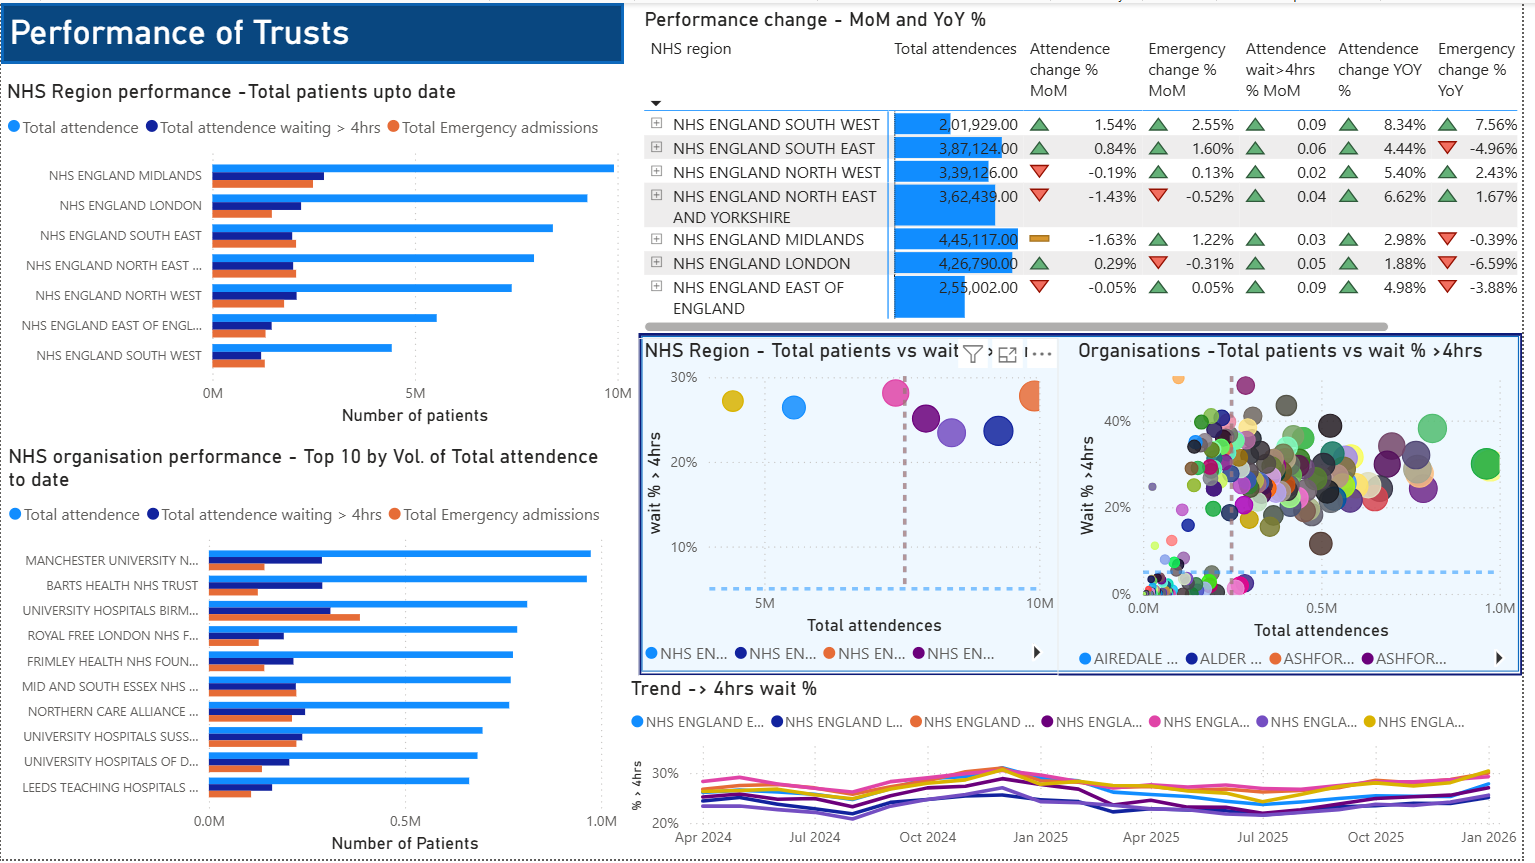

This screenshot's page, from the dashboard's own definition file:
{"tool":"powerbi","page":{"name":"Trust Performance","canvas":[1280,720],"ordinal":1},"visuals":[{"type":"clusteredBarChart","title":"NHS Region performance -Total patients upto date ","fields":{"Category":["dim_organisation.parent_org"],"Y":["dim_date.Total_attendences","dim_date.Total attendence waiting > 4hrs","dim_date.Total Emergency admissions"]},"box":[0,64.3,535.7,295.7],"z":0},{"type":"textbox","box":[0,0,524.3,51.4],"z":1000},{"type":"clusteredBarChart","title":"NHS organisation performance - Top 10 by Vol. of Total attendence to date","fields":{"Category":["dim_organisation.org_name"],"Y":["dim_date.Total_attendences","dim_date.Total attendence waiting > 4hrs","dim_date.Total Emergency admissions"]},"box":[1.4,371.4,522.9,348.6],"z":2000},{"type":"pivotTable","title":"Performance change - MoM and YoY %","fields":{"Values":["dim_date.Total_attendences","dim_date.Attendence change % MoM","dim_date.Emergency change % MoM","dim_date.Attendence wait>4hrs % MoM","dim_date.Attendence change YOY %","dim_date.Emergency change % YoY","dim_date.attendence wait >4hrs % YoY"],"Rows":["dim_organisation.parent_org","dim_organisation.org_name"]},"box":[535.7,2.9,744.3,278.6],"z":3000},{"type":"shape","box":[535.7,277.1,744.3,288.6],"z":3500},{"type":"scatterChart","title":"NHS Region - Total patients vs wait % > 4hrs","fields":{"X":["dim_date.Total_attendences"],"Y":["dim_date.Over 4hr wait %"],"Size":["dim_date.Total_attendences"],"Series":["dim_organisation.parent_org"]},"box":[535.7,281.4,354.3,284.3],"z":4000},{"type":"scatterChart","title":"Organisations -Total patients vs wait % >4hrs ","fields":{"X":["dim_date.Total_attendences"],"Y":["dim_date.Over 4hr wait %"],"Size":["dim_date.Total_attendences"],"Series":["dim_organisation.org_name"]},"box":[901.4,281.4,378.6,288.6],"z":5000},{"type":"lineChart","title":"Trend -> 4hrs wait %","fields":{"Category":["dim_date.Date.Variation.Date Hierarchy.Year","dim_date.Date.Variation.Date Hierarchy.Quarter","dim_date.Date.Variation.Date Hierarchy.Month","dim_date.Date.Variation.Date Hierarchy.Day"],"Y":["dim_date.Over 4hr wait %"],"Series":["dim_organisation.parent_org"]},"box":[524.3,565.7,755.7,154.3],"z":6000}]}

Visuals, with their boxes in screenshot pixels (x1, y1, x2, y2), scaled from the page's 1280x720 canvas onto the 1535x863 screenshot:
"NHS Region performance -Total patients upto date " clusteredBarChart: 0,77,642,432
textbox: 0,0,629,62
"NHS organisation performance - Top 10 by Vol. of Total attendence to date" clusteredBarChart: 2,445,629,862
"Performance change - MoM and YoY %" pivotTable: 642,3,1534,337
shape: 642,332,1534,678
"NHS Region - Total patients vs wait % > 4hrs" scatterChart: 642,337,1067,678
"Organisations -Total patients vs wait % >4hrs " scatterChart: 1081,337,1534,683
"Trend -> 4hrs wait %" lineChart: 629,678,1534,862
